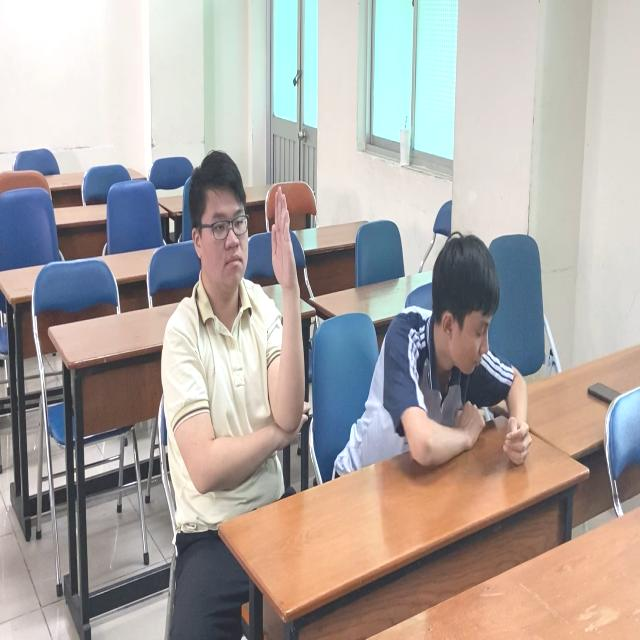raise_hand: (154, 143, 308, 520)
sleep: (339, 242, 545, 472)
